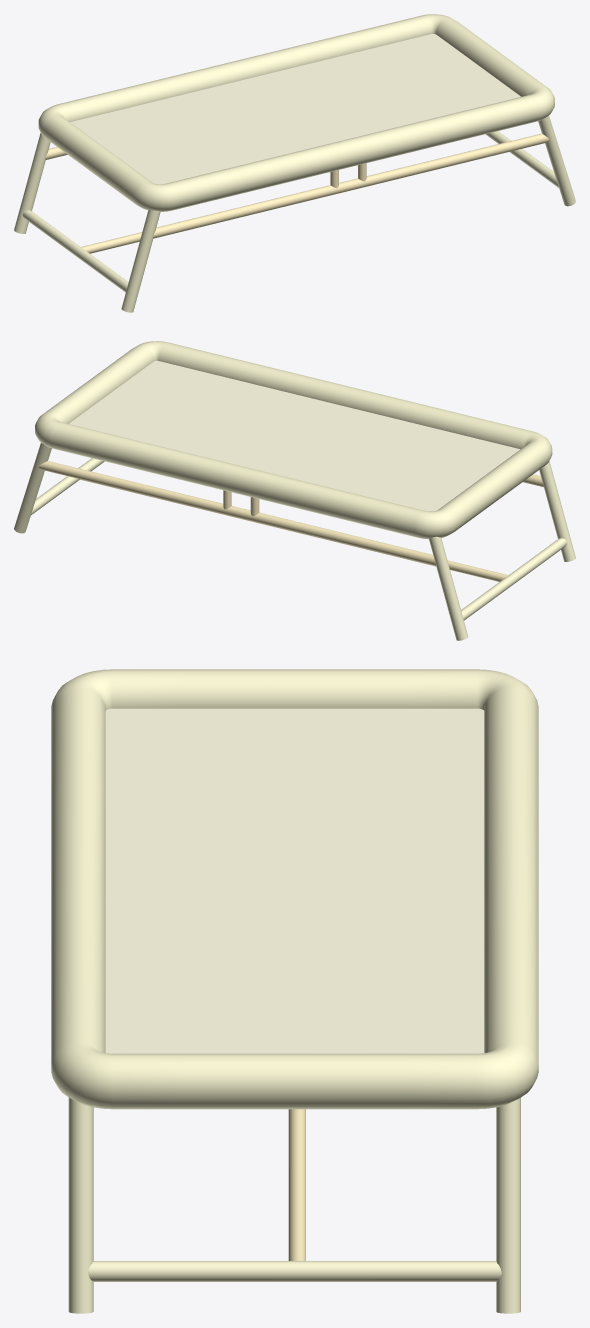
The model's file is meja bambu .fbx.
3 renders of one model, top to bottom at view 1: azimuth 30°, elevation 25°; view 2: azimuth 150°, elevation 25°; view 3: azimuth 270°, elevation 25°, orthographic. The views are drawn at different scales.
Visible parts, largest first — view 1: Plane, Cylinder.011, Cylinder.016, Cylinder.013, Cylinder.017, Cylinder.012, Cylinder.018; view 2: Plane, Cylinder.011, Cylinder.016, Cylinder.013, Cylinder.017, Cylinder.012, Cylinder.018; view 3: Plane, Cylinder.011, Cylinder.012, Cylinder.017, Cylinder.018.
Part boxes in pixels (<box>): Plane: <box>70,34,520,184</box>; Cylinder.011: <box>38,14,554,211</box>; Cylinder.016: <box>45,133,549,238</box>; Cylinder.013: <box>14,133,160,312</box>; Cylinder.017: <box>23,131,558,292</box>; Cylinder.012: <box>538,115,575,206</box>; Cylinder.018: <box>81,232,142,253</box>; Plane: <box>69,360,520,511</box>; Cylinder.011: <box>35,341,552,539</box>; Cylinder.016: <box>38,461,543,565</box>; Cylinder.013: <box>429,461,575,640</box>; Cylinder.017: <box>31,458,566,620</box>; Cylinder.012: <box>14,443,51,533</box>; Cylinder.018: <box>80,479,508,581</box>; Plane: <box>105,708,484,1053</box>; Cylinder.011: <box>51,669,538,1109</box>; Cylinder.012: <box>68,1097,520,1313</box>; Cylinder.017: <box>87,1261,501,1281</box>; Cylinder.018: <box>288,1109,305,1260</box>.
Bounding box in the file's own units: 954 × 238 × 445.
